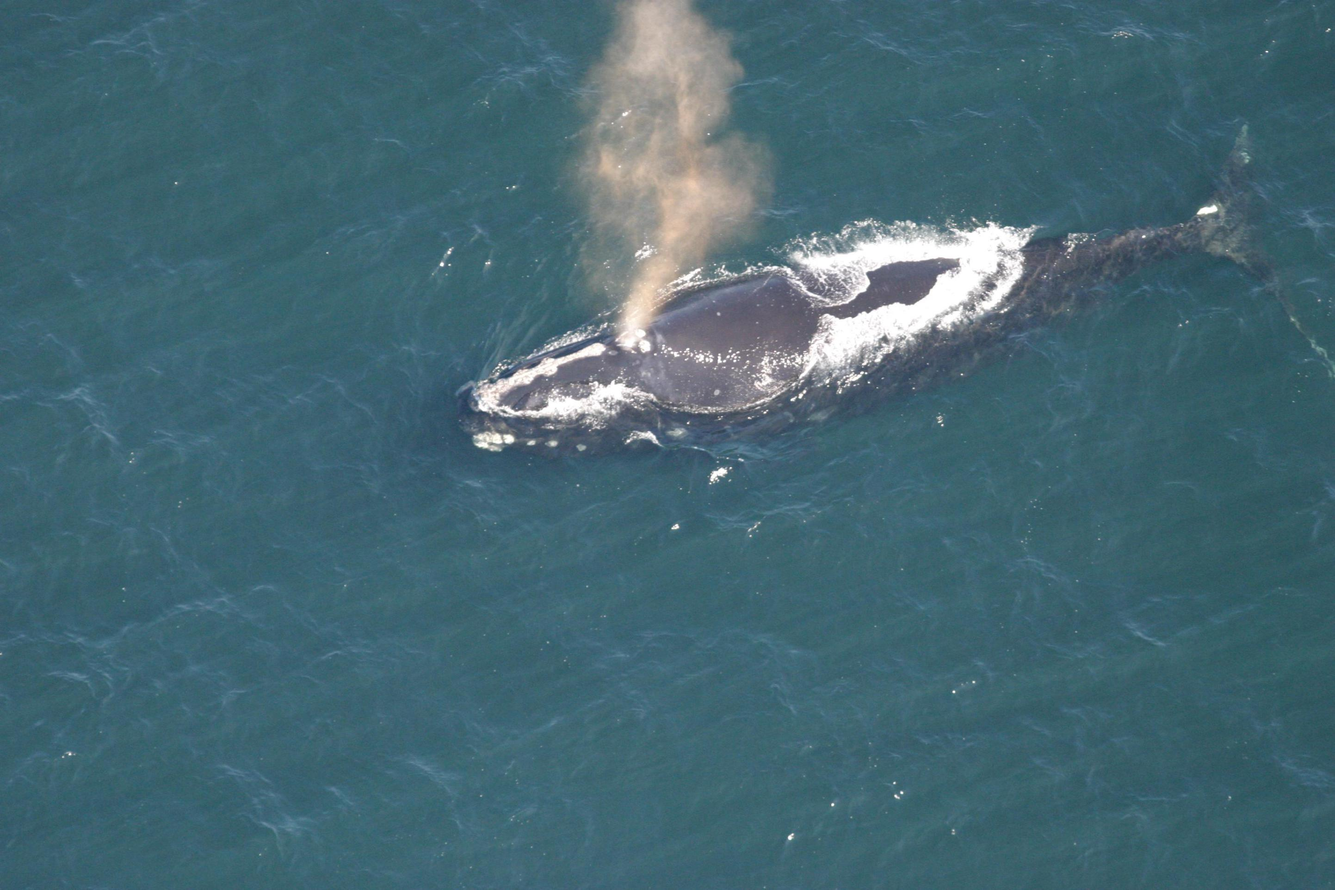whale: (438, 112, 1335, 481)
